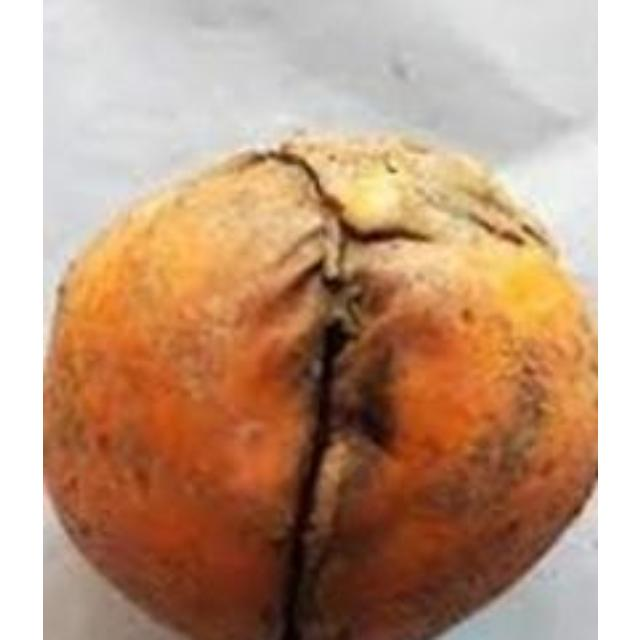damaged: (42, 133, 594, 637)
